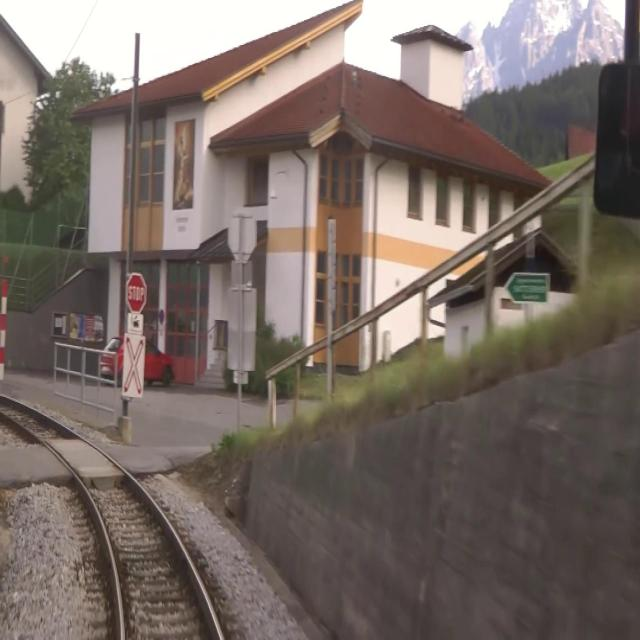rail-track: (0, 398, 216, 639)
